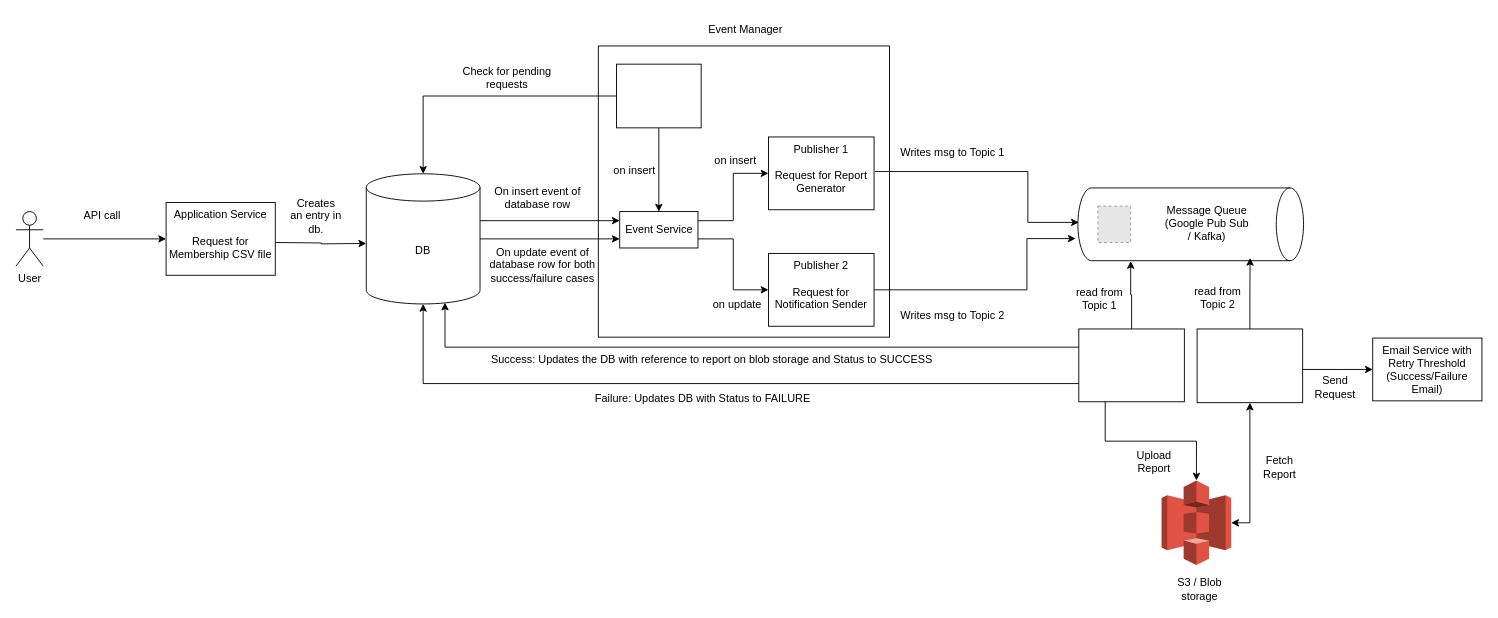
Some shapes in this 1498 by 618 pixel diagram are drawn without their labels. Grey dashed boxes stand in for pictures. The box of each missing label's shape, as (x1, y1, x2, y2) in pixels:
Event Monitor Cron Job: (616, 63, 701, 128)
Subscriber 1 Membership Report Generator: (1078, 328, 1184, 402)
Subscriber 2 Notification Generator: (1196, 328, 1303, 403)
